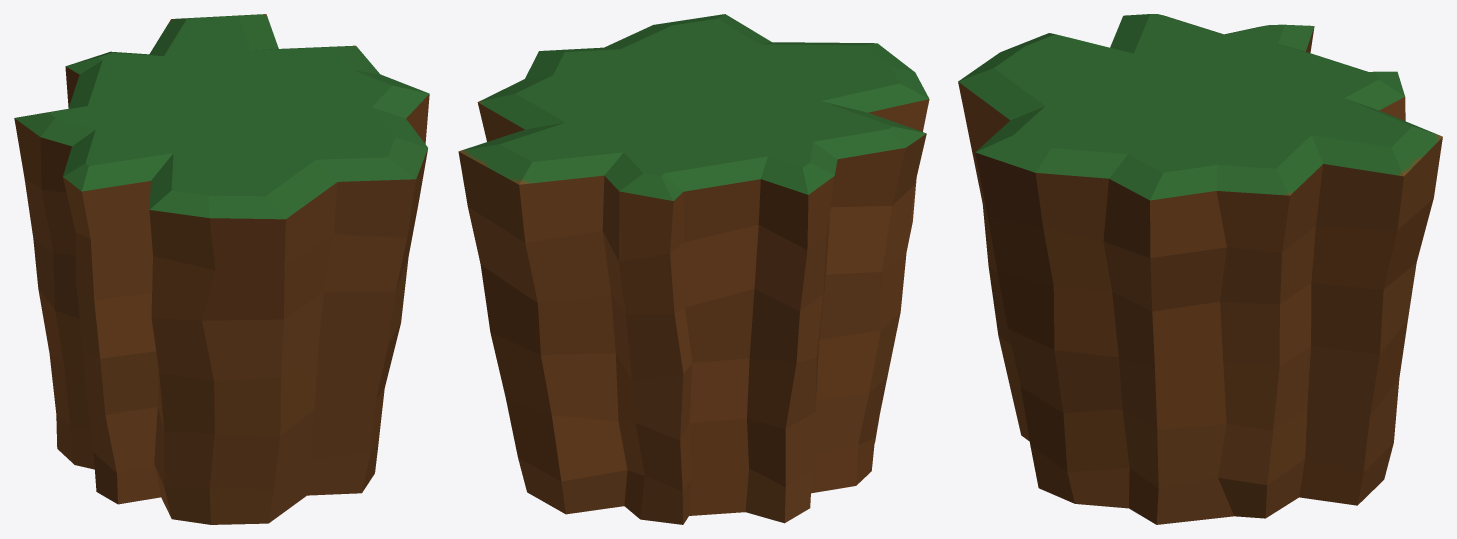
Rendered from cliff-number-two1.glb.
The picture shows the model from 3 angles, left to right: view 1: azimuth 30°, elevation 25°; view 2: azimuth 150°, elevation 25°; view 3: azimuth 270°, elevation 25°; orthographic projection. The views are drawn at different scales.
Visible parts, largest first — view 1: Plane; view 2: Plane; view 3: Plane.
Part boxes in pixels (x1=…): Plane: x1=14, y1=14, x2=429, y2=524; Plane: x1=458, y1=14, x2=929, y2=524; Plane: x1=958, y1=14, x2=1442, y2=524.
Bounding box in the file's own units: 2.14 × 1.96 × 2.37.
Materials: 1 (1 with a texture image).
